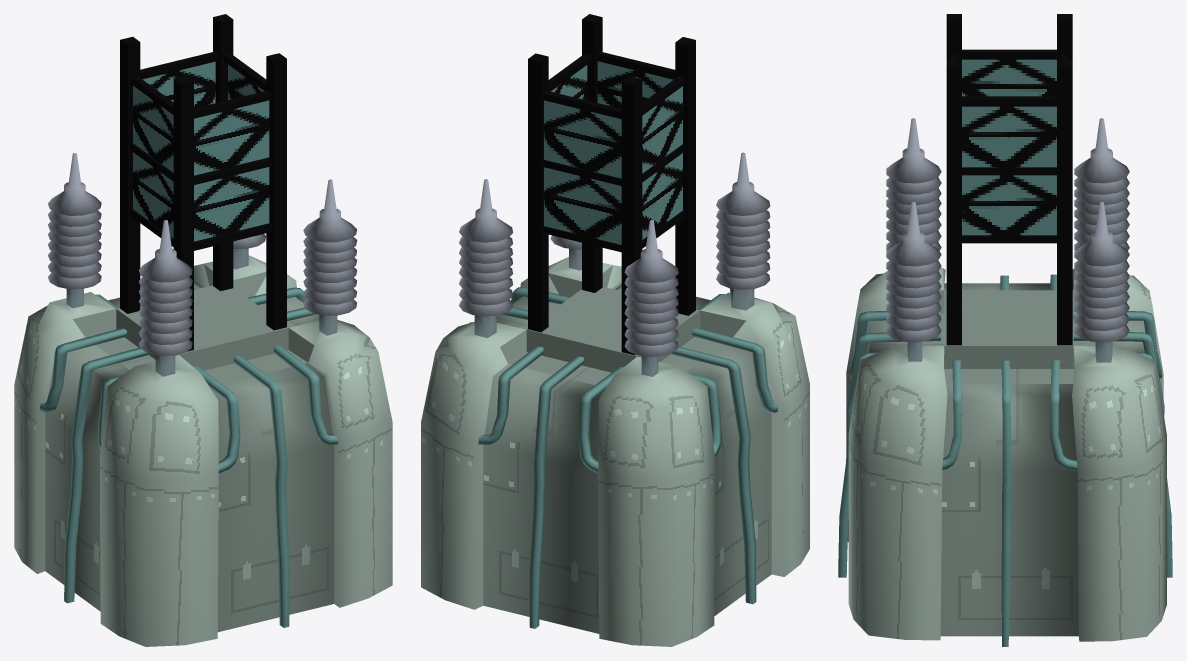
Rendered from generator.glb.
The picture shows the model from 3 angles, left to right: view 1: azimuth 30°, elevation 25°; view 2: azimuth 150°, elevation 25°; view 3: azimuth 270°, elevation 25°; orthographic projection. The views are drawn at different scales.
Visible parts, largest first — view 1: generator; view 2: generator; view 3: generator.
Part boxes in pixels (<box>): generator: <box>14,14,392,646</box>; generator: <box>421,14,809,646</box>; generator: <box>838,14,1172,646</box>.
Bounding box in the file's own units: 4.56 × 8.04 × 4.56.
Materials: 1 (1 with a texture image).
